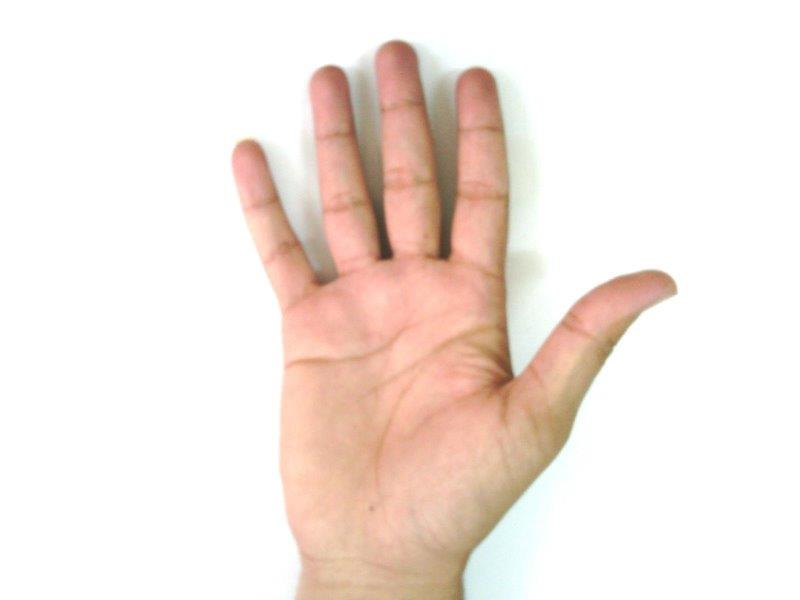hand: (233, 43, 677, 547)
